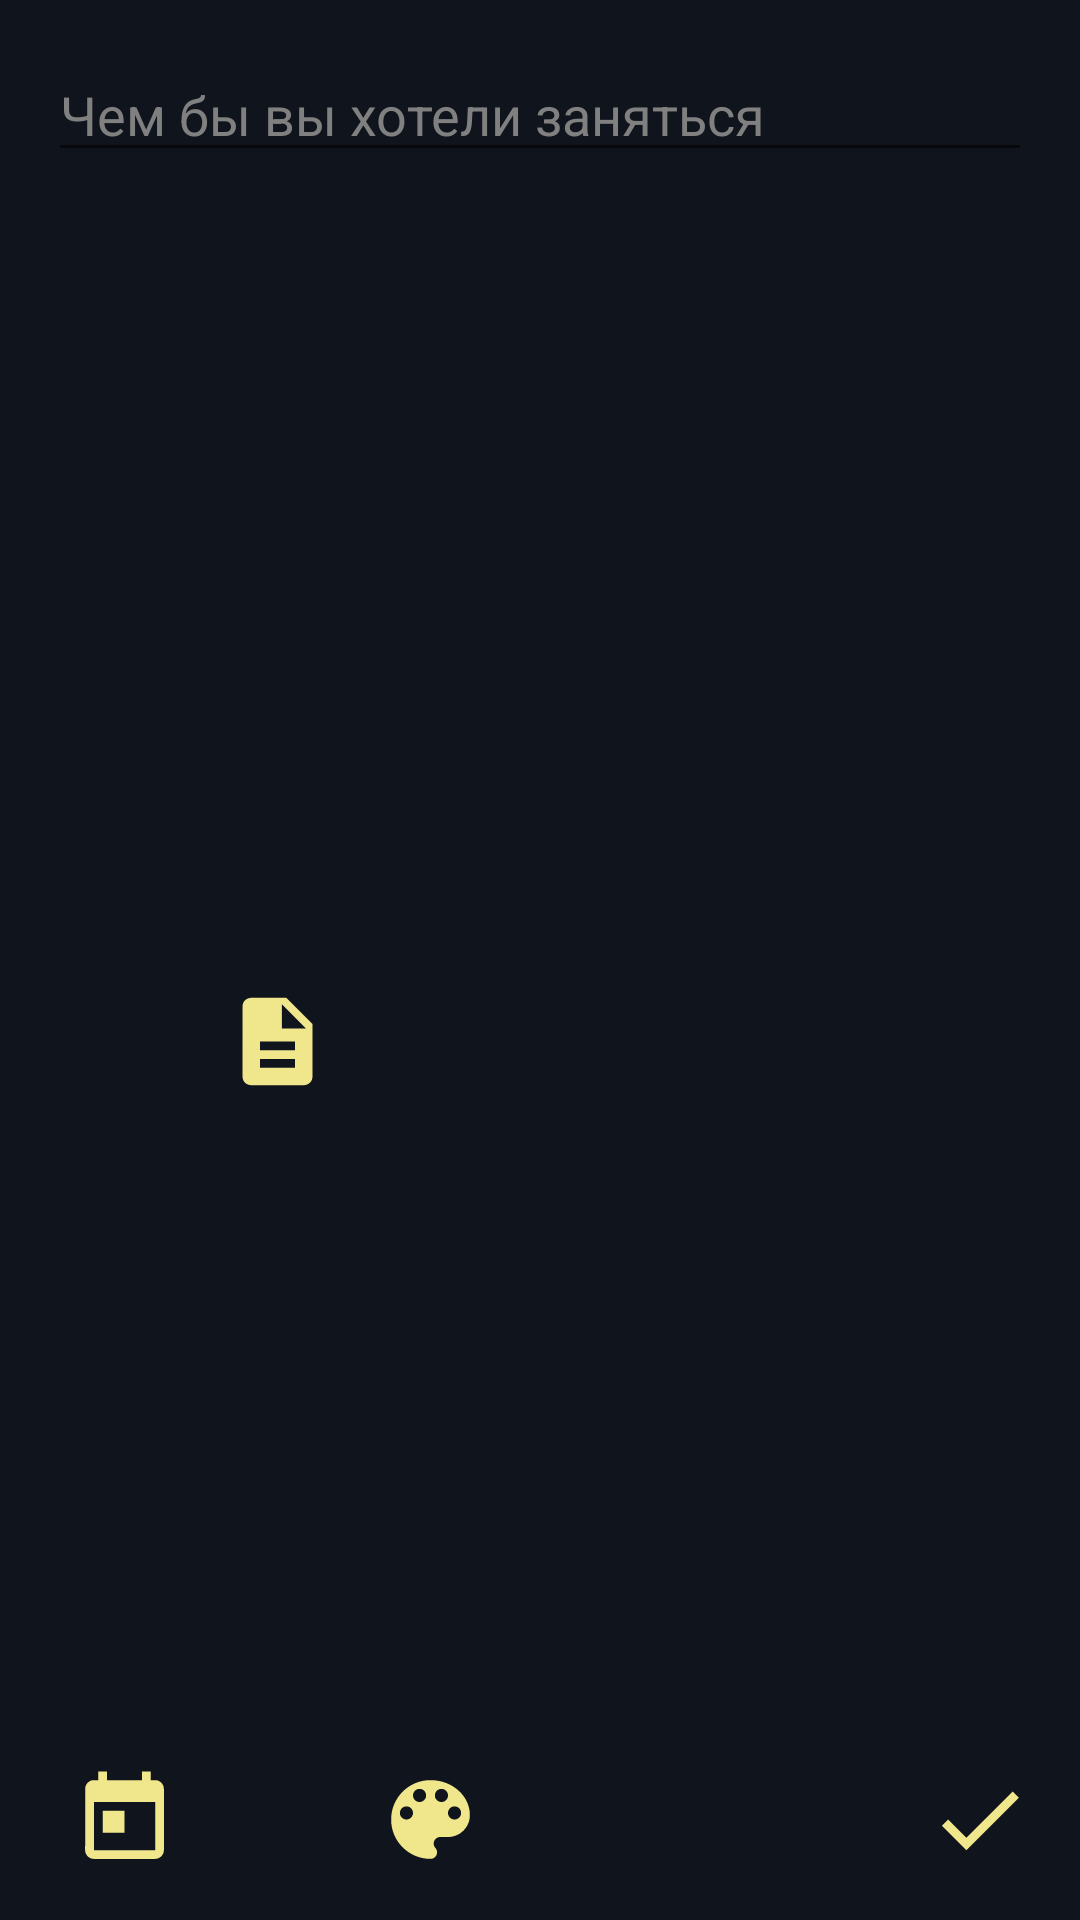

Icon click points for this 1080px×1920px phone screenshot, format point (x, y):
check: point (980, 1820)
description: point (277, 1041)
today: point (124, 1815)
